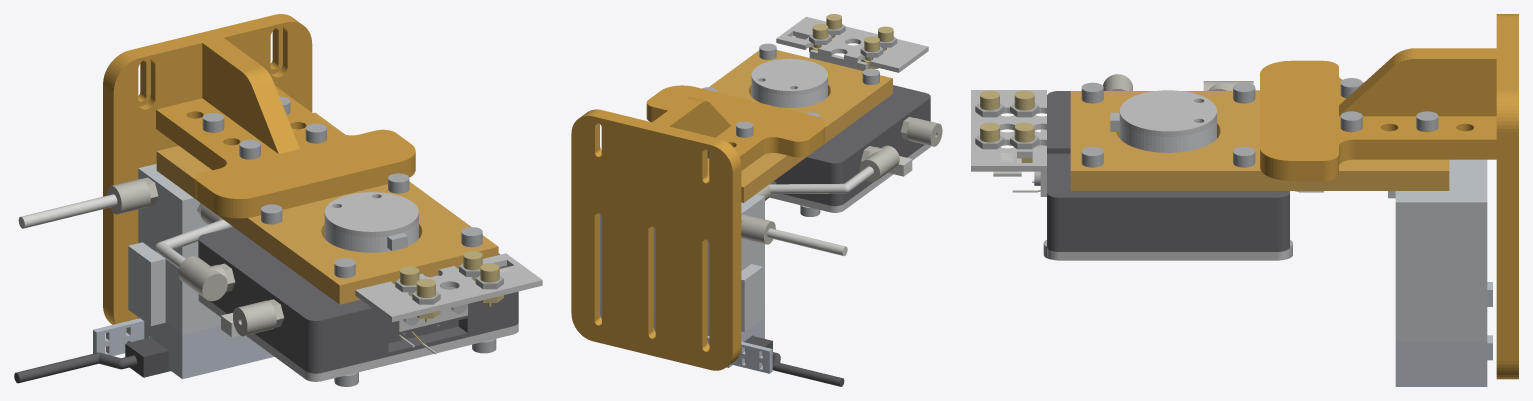
Rendered from v60_single_b2.glb.
3 renders of one model, left to right at view 1: azimuth 30°, elevation 25°; view 2: azimuth 150°, elevation 25°; view 3: azimuth 270°, elevation 25°, orthographic. The views are drawn at different scales.
Visible parts, largest first — view 1: Grace 2025 앵글 브래킷 "angle bracket for Ramen holder.STEP" (형상 , 셀 몸체 v6.0 Al 6061 흑색 아노다이징 80x77x19 R4 (공동 69x62 깊이 9, ±Z 경사, Grace 새 세로판 60x120x7 (재출력, 레진 가정), Ø4.5 x4 48x48, Ø33, 배기 블록, [배기 블록 v2] 배기 센서 블록 본체 PETG 60x29x48.5 (가스 몸 17.5 + 센서 칸 31,, [배기 블록 v2] 덮개 PETG 60x29x16 (판 2 + Pico 트레이 14): Pico 보스 4, , 커넥터 브래킷 Al (밑판 26x18x2 + 판 57x24x2; v4.7 부품 그대로, 윗면 Z 38.5):, 퍽 Al 방열 원판 Ø30.8x2 (가정, PETG 벽 끝에 2액형 에폭시), 나사 공구 구멍 Ø3.2 x2, [배기 블록 v2] USB 케이블 (노트북으로, 타이로 선반에 고정; 노트북은 허치 안 가능), 뚜껑 Al 6061 흑색 아노다이징 (마스킹 없음, 필름 접착면 포함): 판 80x77x3 (Y -12…-9, 가스 KQ2L04-M5 엘보 출구 −X 옆면 (Y 4.5, Z -16, 관 포트 아래로; 외형 가정) → 배, SMA 암 판넬 잭 x4 (SAMZO SMA-KY-214형, 가정), M4x12 렌치볼트 x4 (판 뒤에서 몸체 M4 탭으로) (+8 smaller); view 2: Grace 2025 앵글 브래킷 "angle bracket for Ramen holder.STEP" (형상 , 셀 몸체 v6.0 Al 6061 흑색 아노다이징 80x77x19 R4 (공동 69x62 깊이 9, ±Z 경사, Grace 새 세로판 60x120x7 (재출력, 레진 가정), Ø4.5 x4 48x48, Ø33, 배기 블록, 커넥터 브래킷 Al (밑판 26x18x2 + 판 57x24x2; v4.7 부품 그대로, 윗면 Z 38.5):, [배기 블록 v2] 배기 센서 블록 본체 PETG 60x29x48.5 (가스 몸 17.5 + 센서 칸 31,, 퍽 Al 방열 원판 Ø30.8x2 (가정, PETG 벽 끝에 2액형 에폭시), 나사 공구 구멍 Ø3.2 x2, [배기 블록 v2] 덮개 PETG 60x29x16 (판 2 + Pico 트레이 14): Pico 보스 4, , PU 관 Ø4 (셀 출구 엘보 → 배기 블록 v2 입구; MS8607 4716은 이 블록의 SHT45 자리에, SMA 암 판넬 잭 x4 (SAMZO SMA-KY-214형, 가정), 뒤 빛 퍽 PETG Ø30.8 (앞 플랜지 2 = 앞 턱 0.5 (Ø19) + 뒤 자리 Ø20.4x1.5, , [배기 블록 v2] USB 케이블 (노트북으로, 타이로 선반에 고정; 노트북은 허치 안 가능), 뚜껑 Al 6061 흑색 아노다이징 (마스킹 없음, 필름 접착면 포함): 판 80x77x3 (Y -12…-9 (+6 smaller); view 3: Grace 2025 앵글 브래킷 "angle bracket for Ramen holder.STEP" (형상 , 셀 몸체 v6.0 Al 6061 흑색 아노다이징 80x77x19 R4 (공동 69x62 깊이 9, ±Z 경사, Grace 새 세로판 60x120x7 (재출력, 레진 가정), Ø4.5 x4 48x48, Ø33, 배기 블록, [배기 블록 v2] 배기 센서 블록 본체 PETG 60x29x48.5 (가스 몸 17.5 + 센서 칸 31,, [배기 블록 v2] 덮개 PETG 60x29x16 (판 2 + Pico 트레이 14): Pico 보스 4, , 커넥터 브래킷 Al (밑판 26x18x2 + 판 57x24x2; v4.7 부품 그대로, 윗면 Z 38.5):, 퍽 Al 방열 원판 Ø30.8x2 (가정, PETG 벽 끝에 2액형 에폭시), 나사 공구 구멍 Ø3.2 x2, 뚜껑 Al 6061 흑색 아노다이징 (마스킹 없음, 필름 접착면 포함): 판 80x77x3 (Y -12…-9, M4x12 렌치볼트 x4 (판 뒤에서 몸체 M4 탭으로), 뒤 빛 퍽 PETG Ø30.8 (앞 플랜지 2 = 앞 턱 0.5 (Ø19) + 뒤 자리 Ø20.4x1.5, , SMA 암 판넬 잭 x4 (SAMZO SMA-KY-214형, 가정), M4x16 볼트 + 너트 x4 (판 아래 구멍 ↔ 브래킷 세움판) (+1 smaller).
Boxes of the visible parts, box(x1,y1,x2,y2) form: Grace 2025 앵글 브래킷 "angle bracket for Ramen holder.STEP" (형상 : box(103, 14, 415, 332); 셀 몸체 v6.0 Al 6061 흑색 아노다이징 80x77x19 R4 (공동 69x62 깊이 9, ±Z 경사: box(198, 227, 518, 373); Grace 새 세로판 60x120x7 (재출력, 레진 가정), Ø4.5 x4 48x48, Ø33, 배기 블록: box(156, 112, 498, 304); [배기 블록 v2] 배기 센서 블록 본체 PETG 60x29x48.5 (가스 몸 17.5 + 센서 칸 31,: box(128, 164, 220, 334); [배기 블록 v2] 덮개 PETG 60x29x16 (판 2 + Pico 트레이 14): Pico 보스 4, : box(93, 317, 274, 379); 커넥터 브래킷 Al (밑판 26x18x2 + 판 57x24x2; v4.7 부품 그대로, 윗면 Z 38.5):: box(355, 253, 542, 331); 퍽 Al 방열 원판 Ø30.8x2 (가정, PETG 벽 끝에 2액형 에폭시), 나사 공구 구멍 Ø3.2 x2: box(324, 192, 418, 237); [배기 블록 v2] USB 케이블 (노트북으로, 타이로 선반에 고정; 노트북은 허치 안 가능): box(14, 337, 170, 383); 뚜껑 Al 6061 흑색 아노다이징 (마스킹 없음, 필름 접착면 포함): 판 80x77x3 (Y -12…-9: box(198, 294, 518, 381); 가스 KQ2L04-M5 엘보 출구 −X 옆면 (Y 4.5, Z -16, 관 포트 아래로; 외형 가정) → 배: box(178, 256, 235, 301); SMA 암 판넬 잭 x4 (SAMZO SMA-KY-214형, 가정): box(400, 251, 503, 322); M4x12 렌치볼트 x4 (판 뒤에서 몸체 M4 탭으로): box(261, 173, 482, 278); Grace 2025 앵글 브래킷 "angle bracket for Ramen holder.STEP" (형상 : box(571, 85, 825, 370); 셀 몸체 v6.0 Al 6061 흑색 아노다이징 80x77x19 R4 (공동 69x62 깊이 9, ±Z 경사: box(770, 85, 930, 206); Grace 새 세로판 60x120x7 (재출력, 레진 가정), Ø4.5 x4 48x48, Ø33, 배기 블록: box(709, 50, 892, 202); 커넥터 브래킷 Al (밑판 26x18x2 + 판 57x24x2; v4.7 부품 그대로, 윗면 Z 38.5):: box(776, 16, 928, 72); [배기 블록 v2] 배기 센서 블록 본체 PETG 60x29x48.5 (가스 몸 17.5 + 센서 칸 31,: box(600, 194, 764, 331); 퍽 Al 방열 원판 Ø30.8x2 (가정, PETG 벽 끝에 2액형 에폭시), 나사 공구 구멍 Ø3.2 x2: box(751, 58, 827, 95); [배기 블록 v2] 덮개 PETG 60x29x16 (판 2 + Pico 트레이 14): Pico 보스 4, : box(600, 300, 772, 373); PU 관 Ø4 (셀 출구 엘보 → 배기 블록 v2 입구; MS8607 4716은 이 블록의 SHT45 자리에: box(769, 166, 873, 194); SMA 암 판넬 잭 x4 (SAMZO SMA-KY-214형, 가정): box(809, 14, 893, 68); 뒤 빛 퍽 PETG Ø30.8 (앞 플랜지 2 = 앞 턱 0.5 (Ø19) + 뒤 자리 Ø20.4x1.5, : box(751, 81, 827, 107); [배기 블록 v2] USB 케이블 (노트북으로, 타이로 선반에 고정; 노트북은 허치 안 가능): box(744, 336, 844, 386); 뚜껑 Al 6061 흑색 아노다이징 (마스킹 없음, 필름 접착면 포함): 판 80x77x3 (Y -12…-9: box(769, 144, 930, 212); Grace 2025 앵글 브래킷 "angle bracket for Ramen holder.STEP" (형상 : box(1260, 14, 1518, 379); 셀 몸체 v6.0 Al 6061 흑색 아노다이징 80x77x19 R4 (공동 69x62 깊이 9, ±Z 경사: box(1047, 91, 1289, 251); Grace 새 세로판 60x120x7 (재출력, 레진 가정), Ø4.5 x4 48x48, Ø33, 배기 블록: box(1070, 91, 1449, 190); [배기 블록 v2] 배기 센서 블록 본체 PETG 60x29x48.5 (가스 몸 17.5 + 센서 칸 31,: box(1388, 159, 1487, 341); [배기 블록 v2] 덮개 PETG 60x29x16 (판 2 + Pico 트레이 14): Pico 보스 4, : box(1395, 282, 1492, 386); 커넥터 브래킷 Al (밑판 26x18x2 + 판 57x24x2; v4.7 부품 그대로, 윗면 Z 38.5):: box(971, 90, 1046, 196); 퍽 Al 방열 원판 Ø30.8x2 (가정, PETG 벽 끝에 2액형 에폭시), 나사 공구 구멍 Ø3.2 x2: box(1119, 90, 1216, 136); 뚜껑 Al 6061 흑색 아노다이징 (마스킹 없음, 필름 접착면 포함): 판 80x77x3 (Y -12…-9: box(1047, 247, 1289, 260); M4x12 렌치볼트 x4 (판 뒤에서 몸체 M4 탭으로): box(1081, 82, 1255, 167); 뒤 빛 퍽 PETG Ø30.8 (앞 플랜지 2 = 앞 턱 0.5 (Ø19) + 뒤 자리 Ø20.4x1.5, : box(1119, 117, 1216, 152); SMA 암 판넬 잭 x4 (SAMZO SMA-KY-214형, 가정): box(980, 90, 1035, 162); M4x16 볼트 + 너트 x4 (판 아래 구멍 ↔ 브래킷 세움판): box(1340, 78, 1438, 132).
Size of the model in its own units: 117 by 104 by 174.
